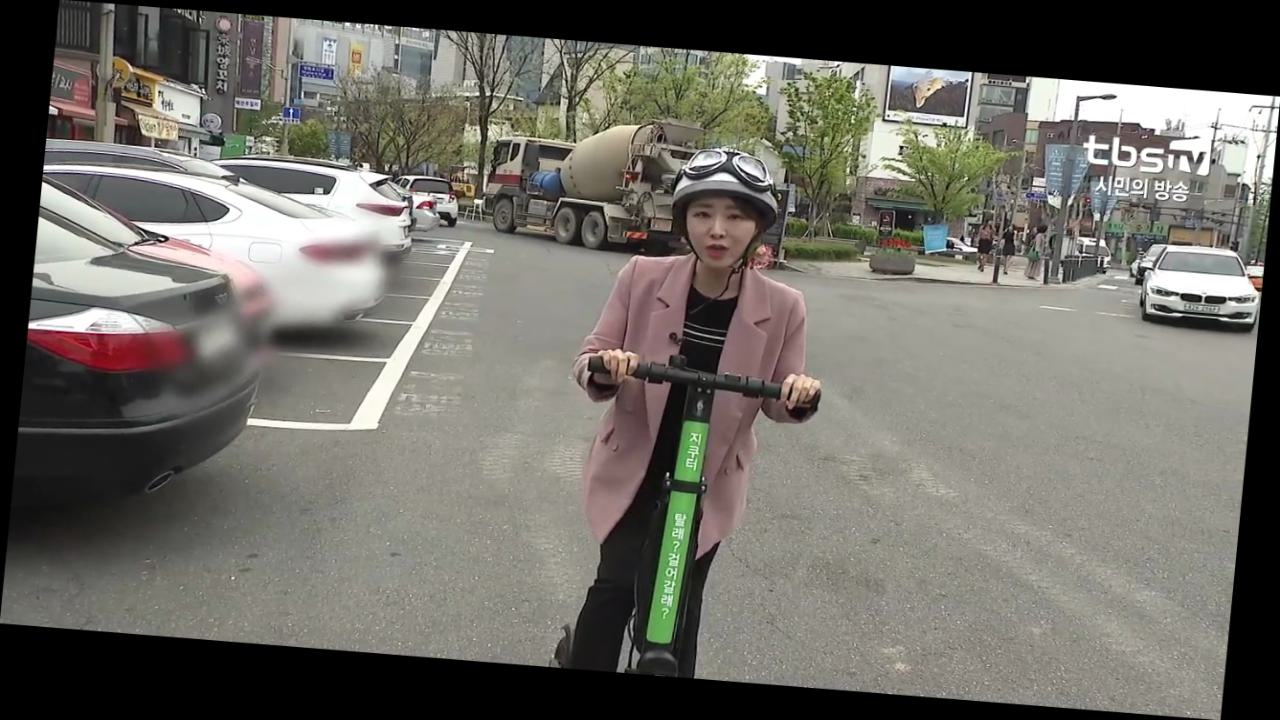helmet: (540, 134, 850, 687)
